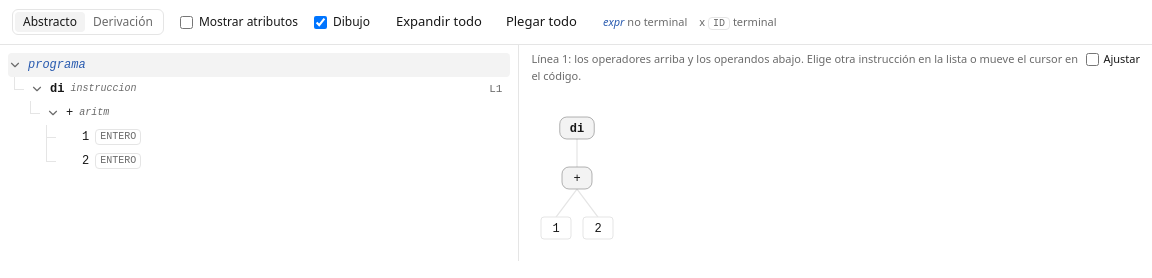
Test: pestaña Árbol (A3, A4) › flechas: bajar, cerrar, subir al padre y abrir
The width and height of the screenshot is (1152, 278).
Later steps or results of the test are not shown.
Click the list item "programa" at (259, 65), box [8,53,510,77]
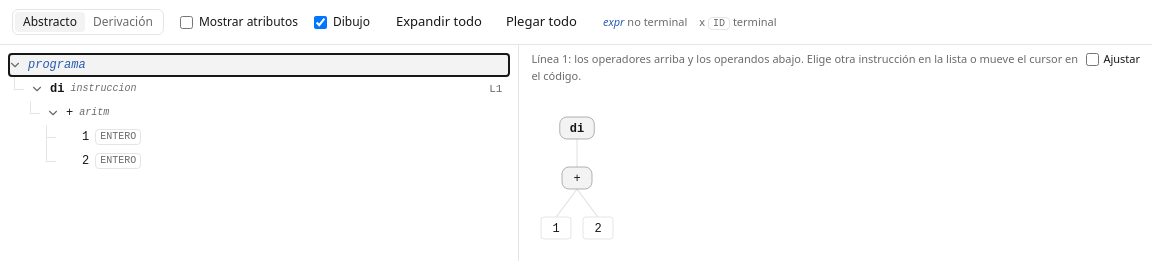
Press Arrowdown
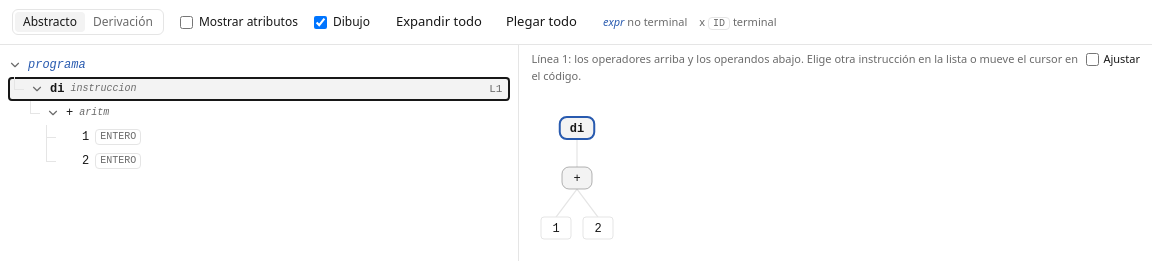
Press Arrowleft
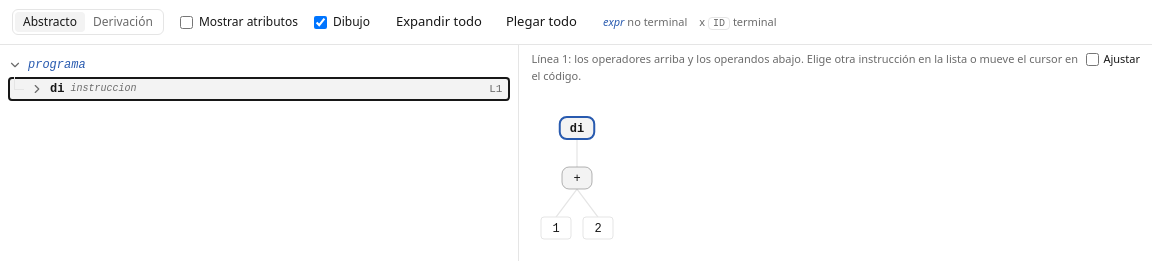
Expected: the list item "di instruccion L1" is collapsed, [8,77,510,101]
Expected: the number of list items is 2, [8,58,86,72]; [8,77,510,101]
